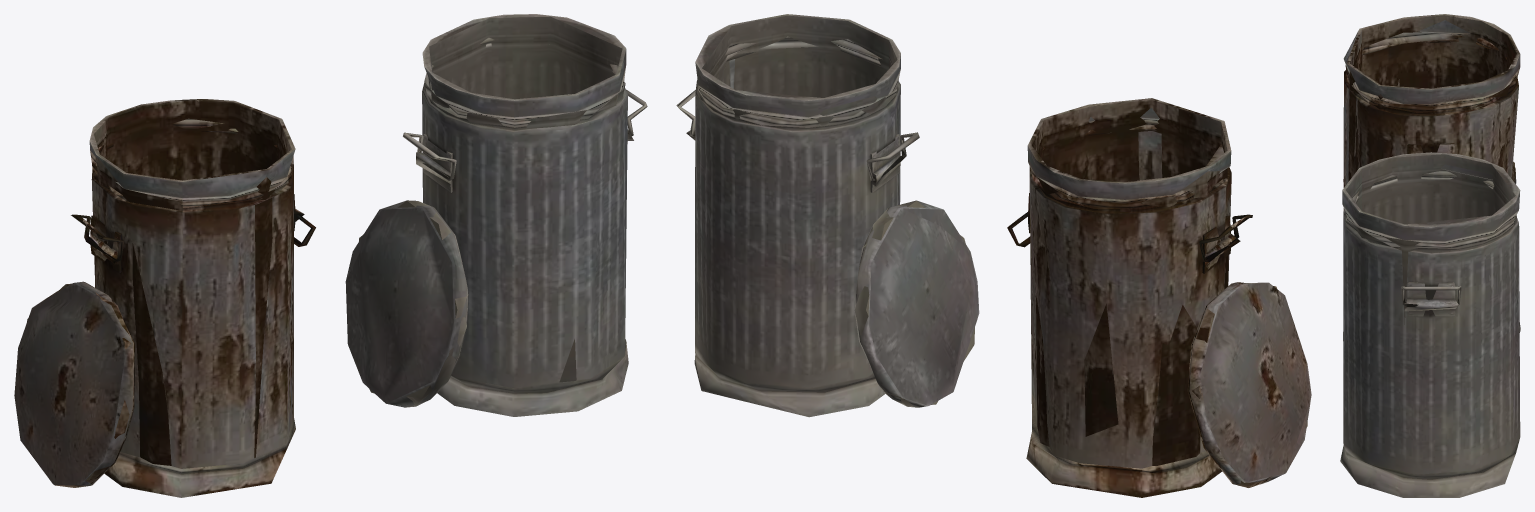
Rendered from p_bin.glb.
3 views of the same model, side by side, from view 1: azimuth 30°, elevation 25°; view 2: azimuth 150°, elevation 25°; view 3: azimuth 270°, elevation 25° (orthographic). The views are drawn at different scales.
Visible parts, largest first — view 1: metal_trash_can, metal_trash_can_rust, metal_trash_can_lid, metal_trash_can_rust_lid; view 2: metal_trash_can, metal_trash_can_rust, metal_trash_can_lid, metal_trash_can_rust_lid; view 3: metal_trash_can, metal_trash_can_rust, metal_trash_can_handle_right.
Part boxes in pixels (x1,y1,x2,y2): metal_trash_can: (416, 14, 633, 416); metal_trash_can_rust: (89, 99, 304, 497); metal_trash_can_lid: (345, 200, 468, 407); metal_trash_can_rust_lid: (14, 281, 135, 487); metal_trash_can: (686, 14, 900, 417); metal_trash_can_rust: (1026, 98, 1240, 497); metal_trash_can_lid: (854, 200, 979, 407); metal_trash_can_rust_lid: (1187, 282, 1311, 487); metal_trash_can: (1340, 152, 1520, 497); metal_trash_can_rust: (1343, 14, 1520, 210); metal_trash_can_handle_right: (1401, 286, 1461, 306).
Size of the model in its own units: 1.77 by 0.9062 by 0.5467.
Materials: 2 (2 with a texture image).
